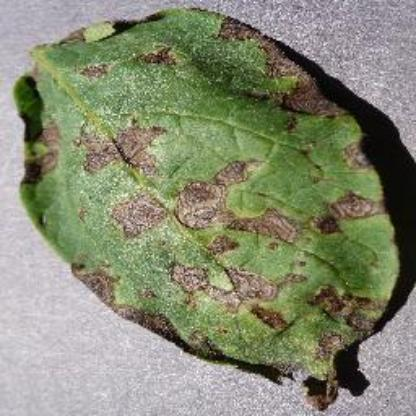Early-Blight: (15, 7, 404, 408)
